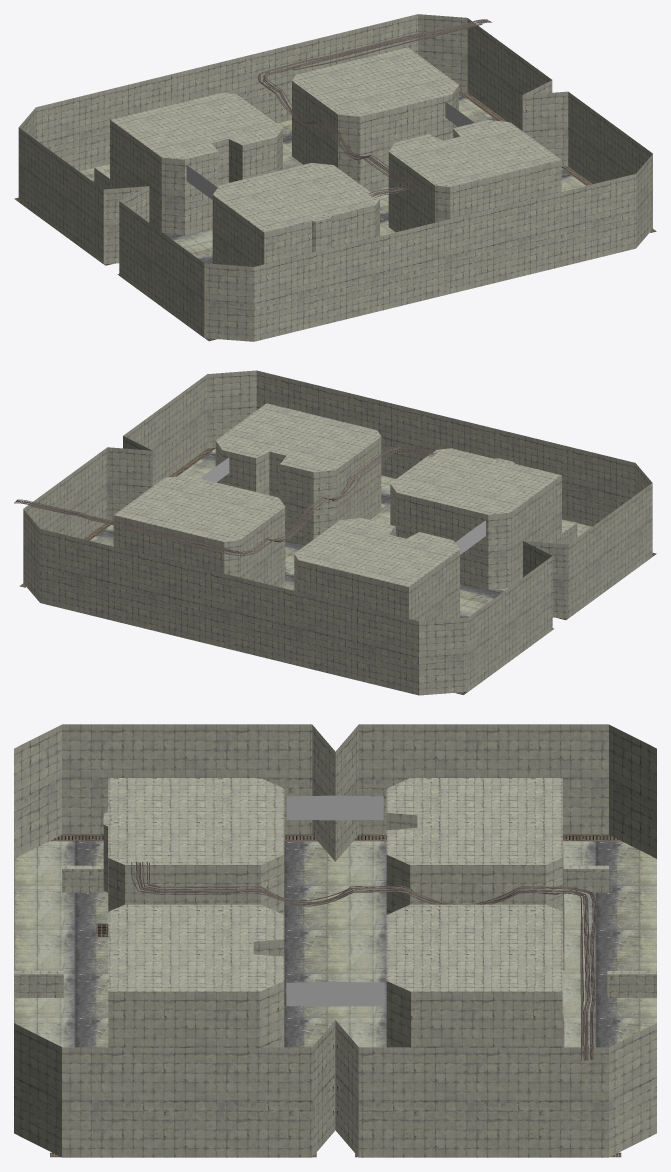
File: SM_TheSamePlace_00_Block_00.fbx
3 views of the same model, one above another, from view 1: azimuth 30°, elevation 25°; view 2: azimuth 150°, elevation 25°; view 3: azimuth 270°, elevation 25° (orthographic). The views are drawn at different scales.
Visible parts, largest first — view 1: SM_TheSamePlace_00_Block_00, SM_TheSamePlace_00_Block_00.027, Grid_Ceiling_02.001, SlidingPannelsGate.001, Drain_Floor_00; view 2: SM_TheSamePlace_00_Block_00, SM_TheSamePlace_00_Block_00.027, Grid_Ceiling_02.001, SlidingPannelsGate.001, Drain_Floor_00; view 3: SM_TheSamePlace_00_Block_00, SM_TheSamePlace_00_Block_00.027, Grid_Ceiling_02.001, SlidingPannelsGate.001, Drain_Floor_00.
Boxes of the visible parts, x1,y1,x2,y2 form: SM_TheSamePlace_00_Block_00: (18,14,652,341); SM_TheSamePlace_00_Block_00.027: (79,93,591,263); Grid_Ceiling_02.001: (258,19,491,198); SlidingPannelsGate.001: (186,102,474,199); Drain_Floor_00: (14,92,656,341); SM_TheSamePlace_00_Block_00: (23,370,652,695); SM_TheSamePlace_00_Block_00.027: (85,449,591,617); Grid_Ceiling_02.001: (14,446,437,556); SlidingPannelsGate.001: (200,457,485,554); Drain_Floor_00: (19,447,656,694); SM_TheSamePlace_00_Block_00: (14,724,656,1157); SM_TheSamePlace_00_Block_00.027: (14,841,656,1047); Grid_Ceiling_02.001: (131,861,596,1060); SlidingPannelsGate.001: (286,795,384,1006); Drain_Floor_00: (50,834,621,1157).
Bounding box in the file's own units: 4433 × 704 × 3608.
